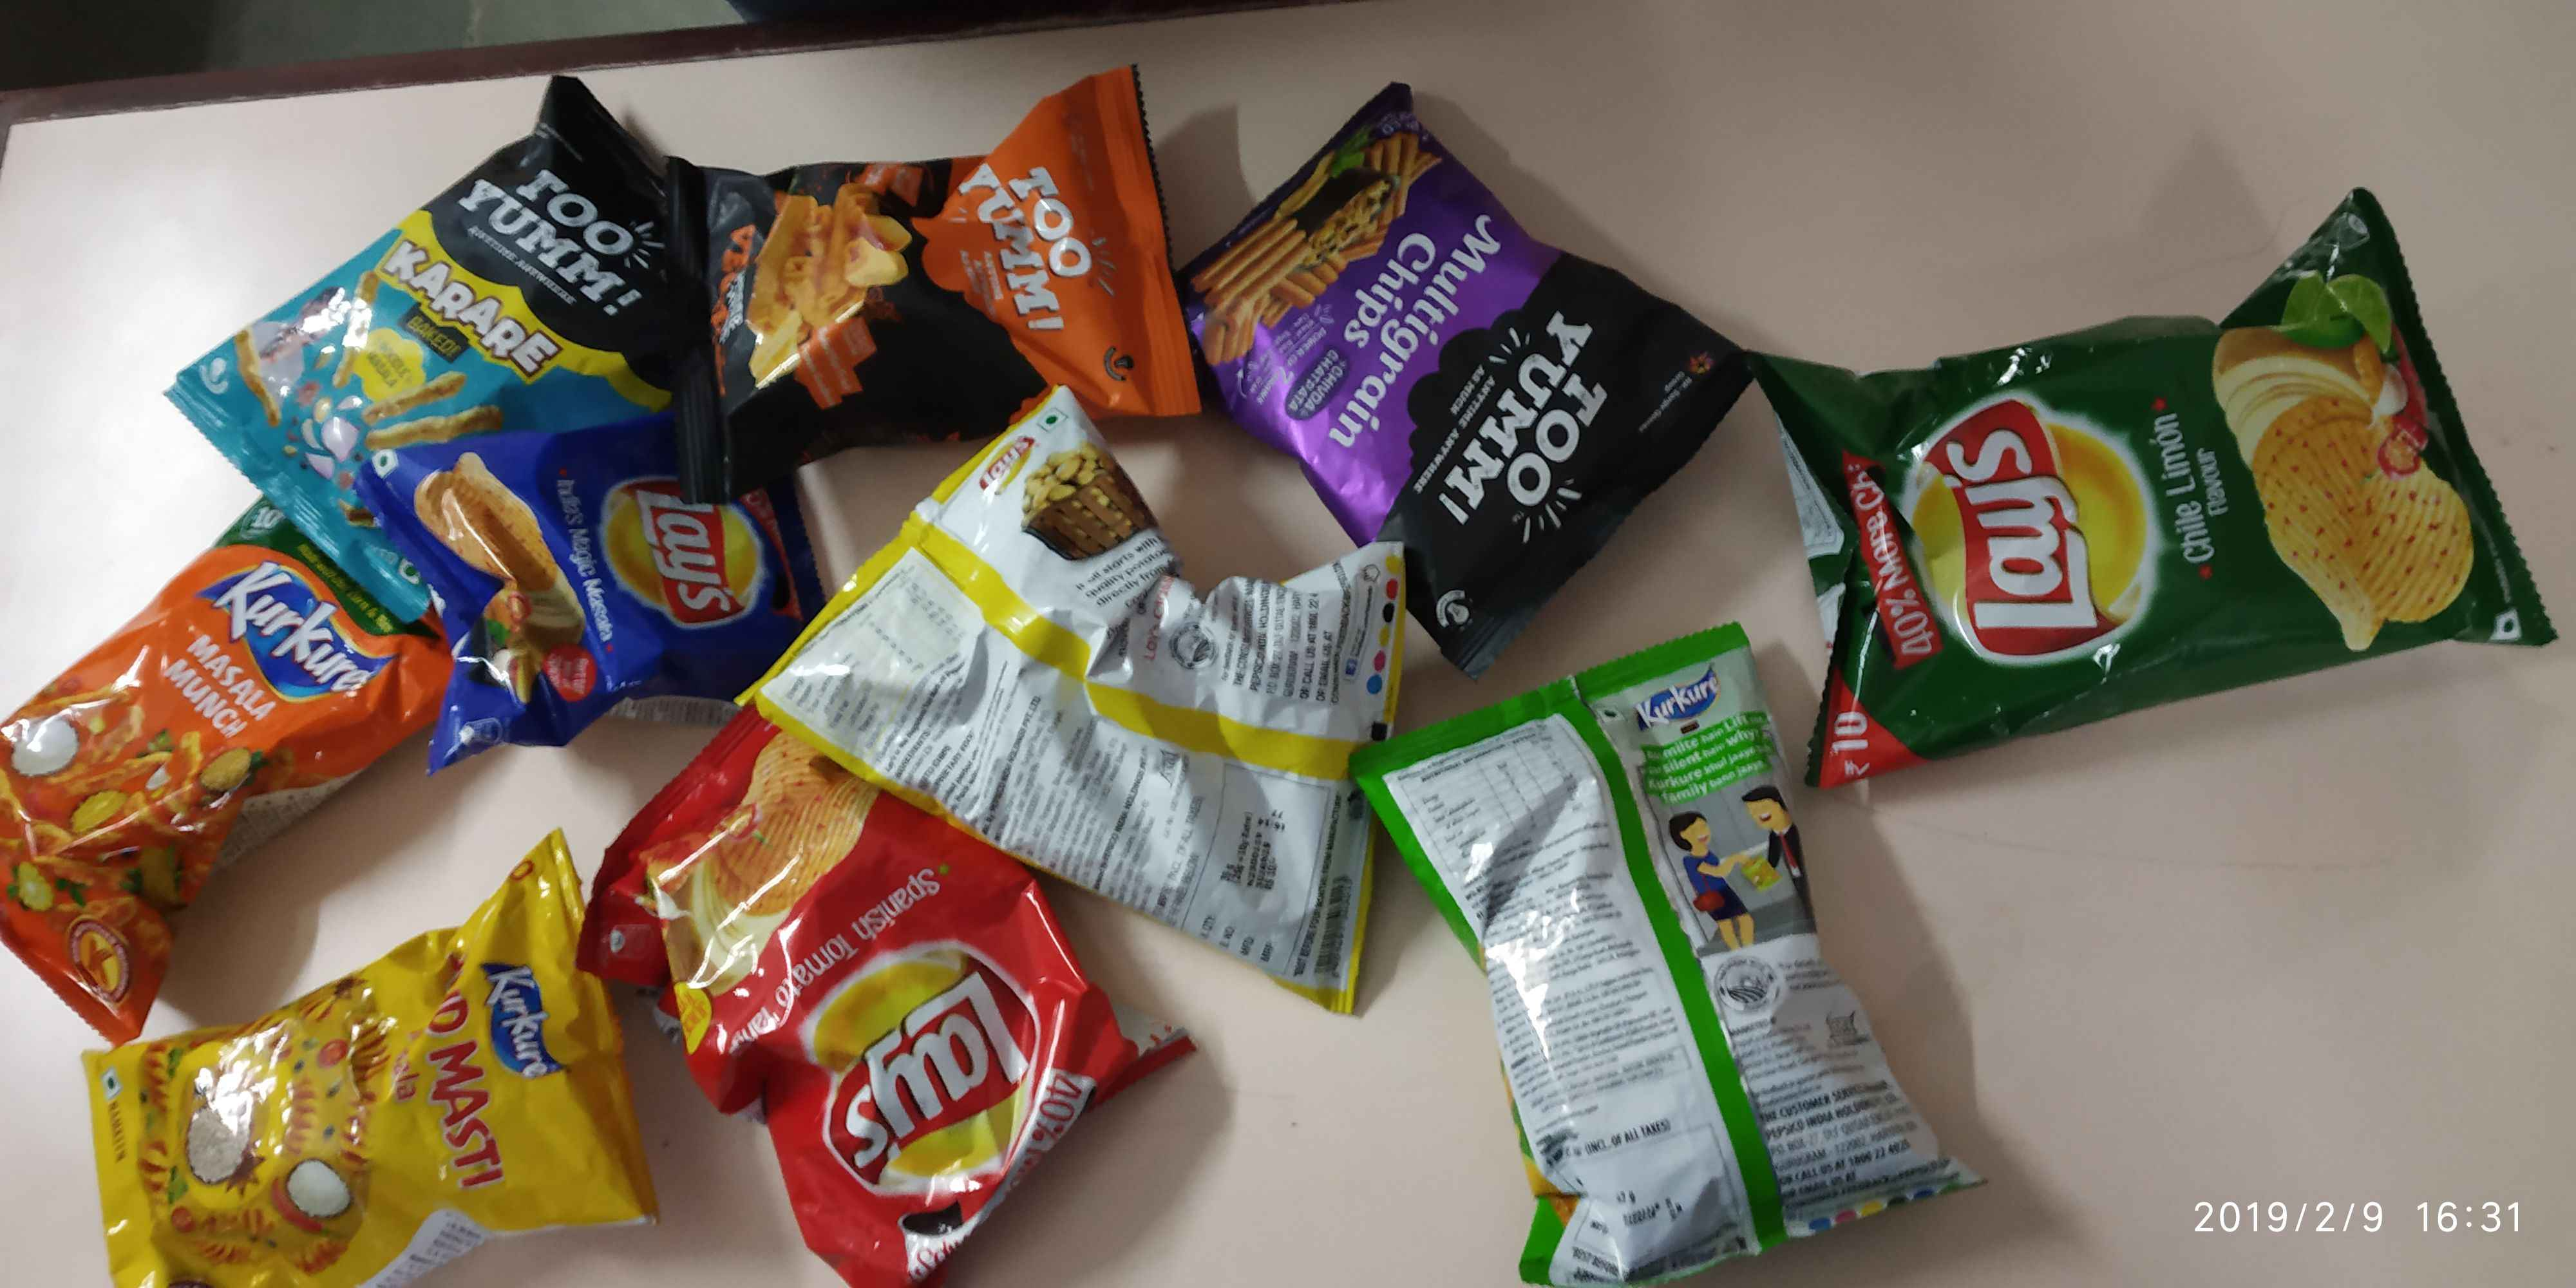Lays: (1896, 378, 2175, 651), (812, 935, 1065, 1226), (608, 473, 769, 631), (977, 421, 1053, 522)
kurkure: (195, 555, 406, 706), (475, 943, 573, 1099), (1621, 669, 1730, 744)
tooyumm: (453, 141, 688, 325), (1442, 291, 1585, 555), (954, 138, 1106, 343)
